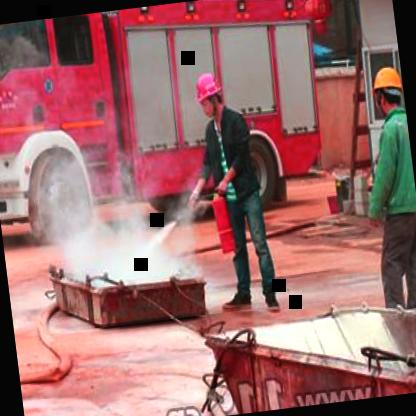helmet: (368, 61, 406, 118), (191, 67, 225, 123)
